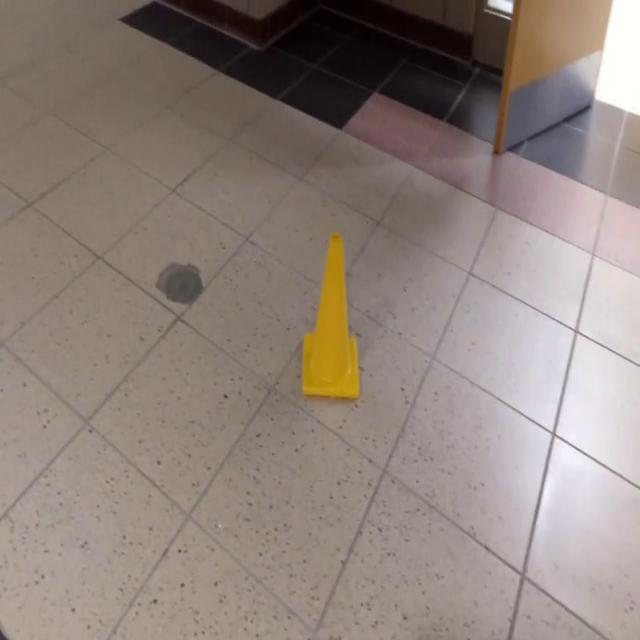frc_cone: (303, 228, 363, 402)
